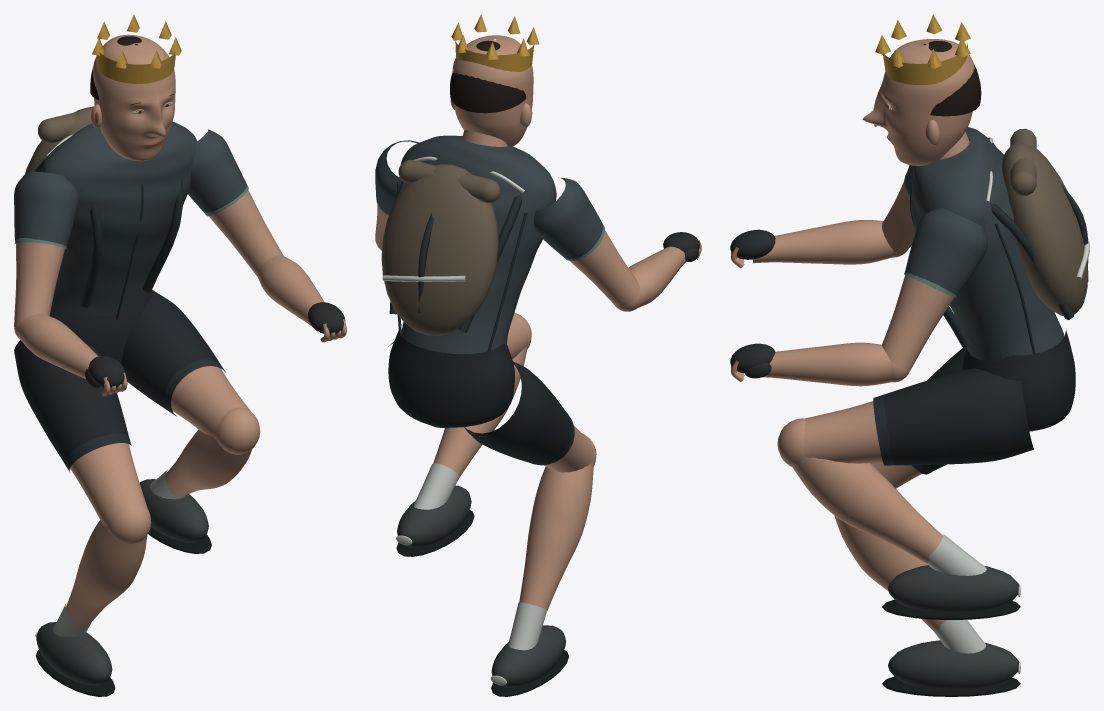
File: courier-crown.glb
3 views of the same model, side by side, from view 1: azimuth 30°, elevation 25°; view 2: azimuth 150°, elevation 25°; view 3: azimuth 270°, elevation 25° (orthographic). The views are drawn at different scales.
Visible parts, largest first — view 1: rider-torso, thigh-left, thigh-right, rider-head, upper-arm-left, upper-arm-right, shin-left, foot-left, shin-right, foot-right, forearm-left, anatomical-bicycle-courier (+5 smaller); view 2: rider-torso, anatomical-bicycle-courier, rider-head, shin-left, thigh-left, upper-arm-left, foot-left, shin-right, foot-right, forearm-left, upper-arm-right, hand-left (+1 smaller); view 3: rider-torso, thigh-right, rider-head, upper-arm-right, shin-right, foot-left, foot-right, anatomical-bicycle-courier, forearm-left, forearm-right, shin-left, upper-arm-left (+4 smaller).
Part boxes in pixels (bbox=[...]): rider-torso: bbox=[25, 106, 197, 319]; thigh-left: bbox=[14, 340, 147, 526]; thigh-right: bbox=[121, 290, 250, 439]; rider-head: bbox=[90, 14, 181, 161]; upper-arm-left: bbox=[14, 171, 78, 324]; upper-arm-right: bbox=[188, 129, 283, 275]; shin-left: bbox=[52, 520, 147, 637]; foot-left: bbox=[35, 622, 115, 696]; shin-right: bbox=[150, 429, 252, 499]; foot-right: bbox=[139, 479, 211, 553]; forearm-left: bbox=[17, 314, 100, 387]; anatomical-bicycle-courier: bbox=[49, 290, 152, 363]; rider-torso: bbox=[381, 130, 556, 353]; anatomical-bicycle-courier: bbox=[388, 330, 514, 427]; rider-head: bbox=[450, 14, 539, 146]; shin-left: bbox=[508, 463, 593, 650]; thigh-left: bbox=[464, 361, 593, 472]; upper-arm-left: bbox=[534, 177, 640, 306]; foot-left: bbox=[490, 625, 568, 696]; shin-right: bbox=[413, 346, 527, 509]; foot-right: bbox=[396, 485, 474, 556]; forearm-left: bbox=[628, 246, 686, 307]; upper-arm-right: bbox=[375, 140, 418, 247]; hand-left: bbox=[663, 232, 701, 261]; rider-torso: bbox=[910, 127, 1089, 361]; thigh-right: bbox=[803, 368, 1033, 465]; rider-head: bbox=[862, 14, 981, 165]; upper-arm-right: bbox=[882, 206, 987, 371]; shin-right: bbox=[792, 457, 986, 575]; foot-left: bbox=[882, 640, 1020, 696]; foot-right: bbox=[882, 565, 1020, 619]; anatomical-bicycle-courier: bbox=[962, 330, 1075, 431]; forearm-left: bbox=[753, 220, 895, 264]; forearm-right: bbox=[763, 342, 892, 386]; shin-left: bbox=[834, 515, 985, 653]; upper-arm-left: bbox=[882, 165, 915, 253].
Size of the model in its own units: 0.6252 by 1.4 by 0.6676.
